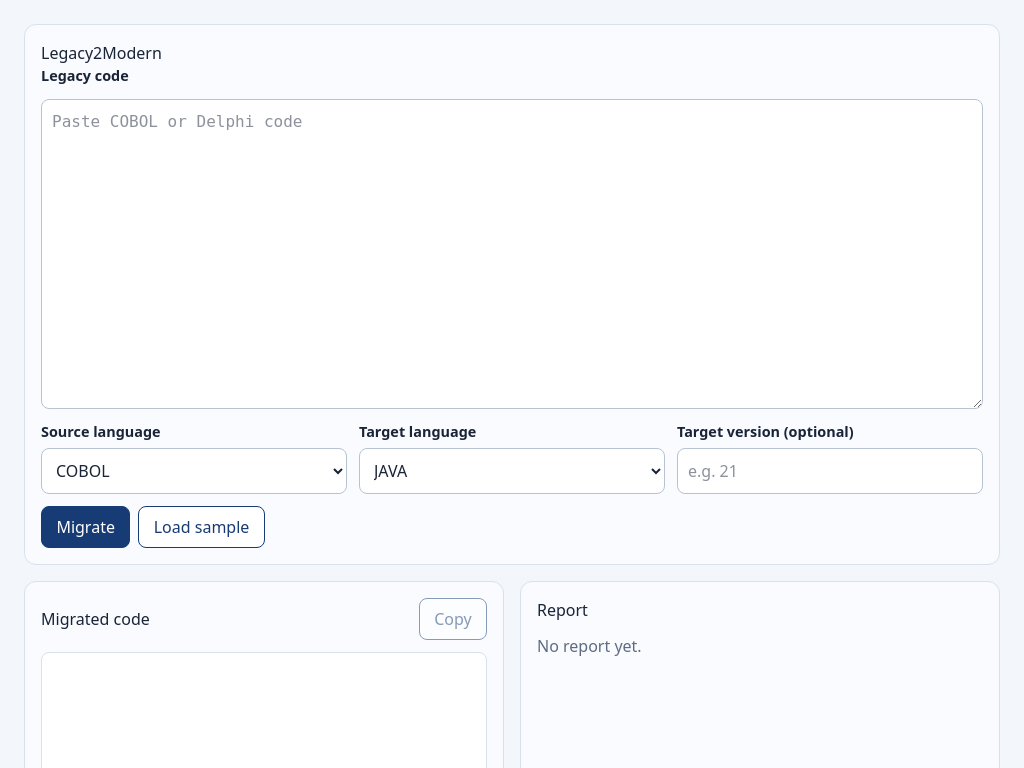
Legacy2ModernPageComponent › uses safe fallback values when response fields are missing
Type "IDENTIFICATION DIVISION." into the text box with test id "legacy-code-input". click: x=512, y=254
box: [41,99,983,409]
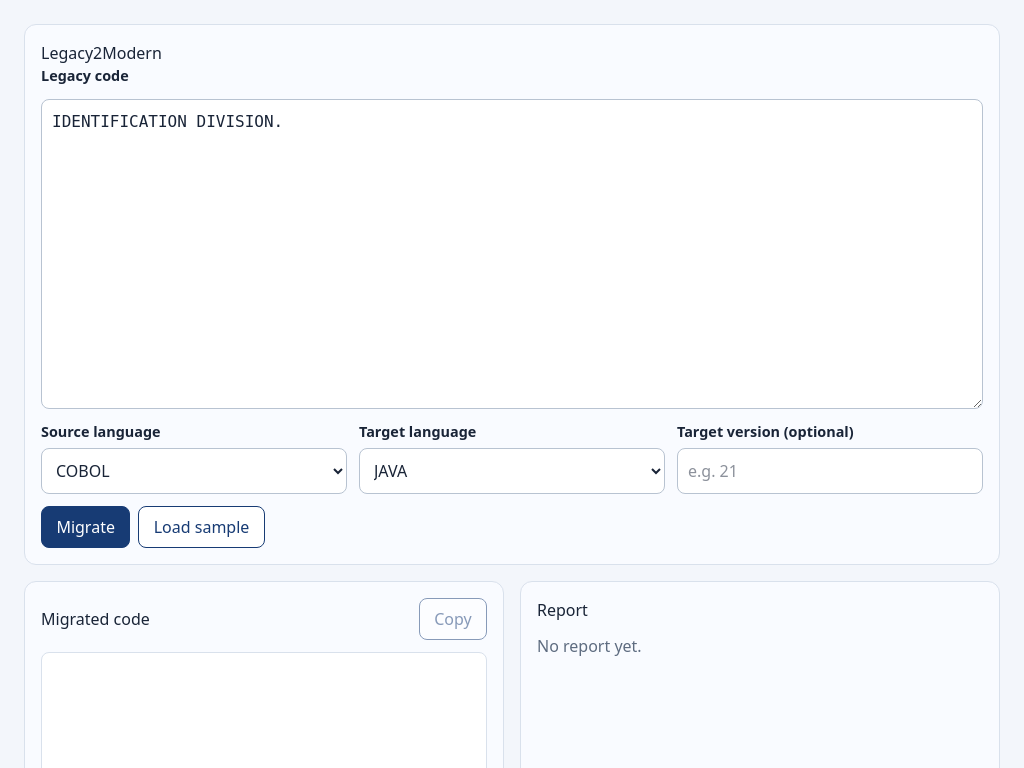
Click the button with test id "migrate-btn". click: x=86, y=527
box: [41,506,130,548]
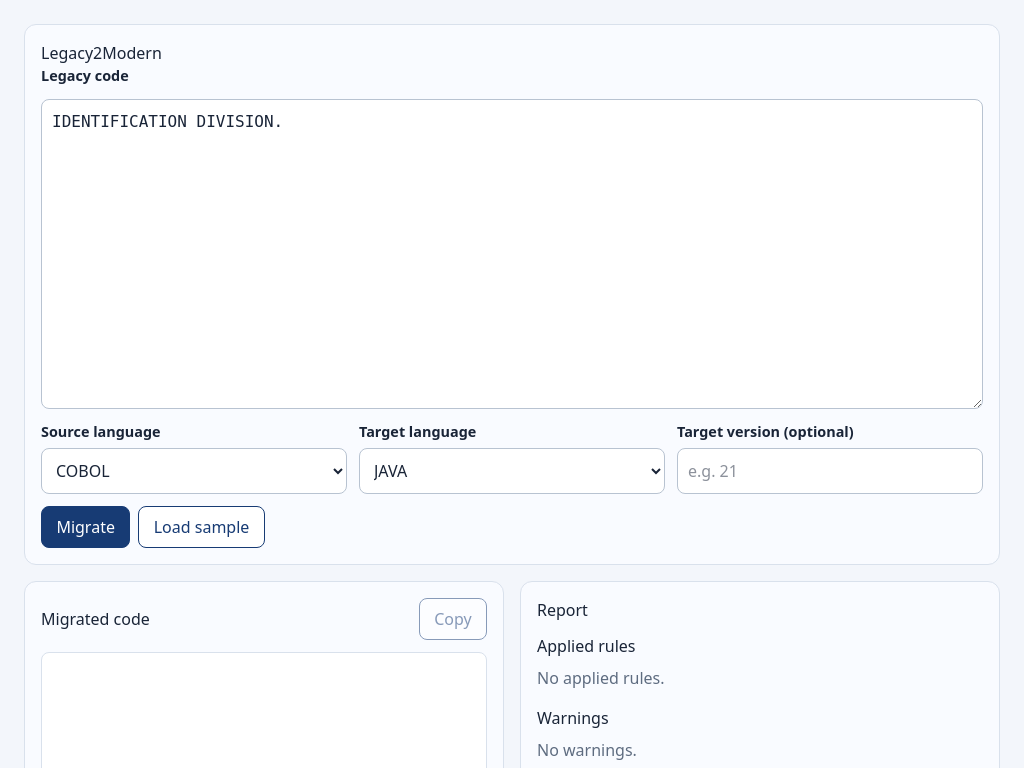
Expected: the element with test id "report" shows "No applied rules.", [537,667,664,689]
Expected: the element with test id "report" shows "No warnings.", [537,739,637,761]
